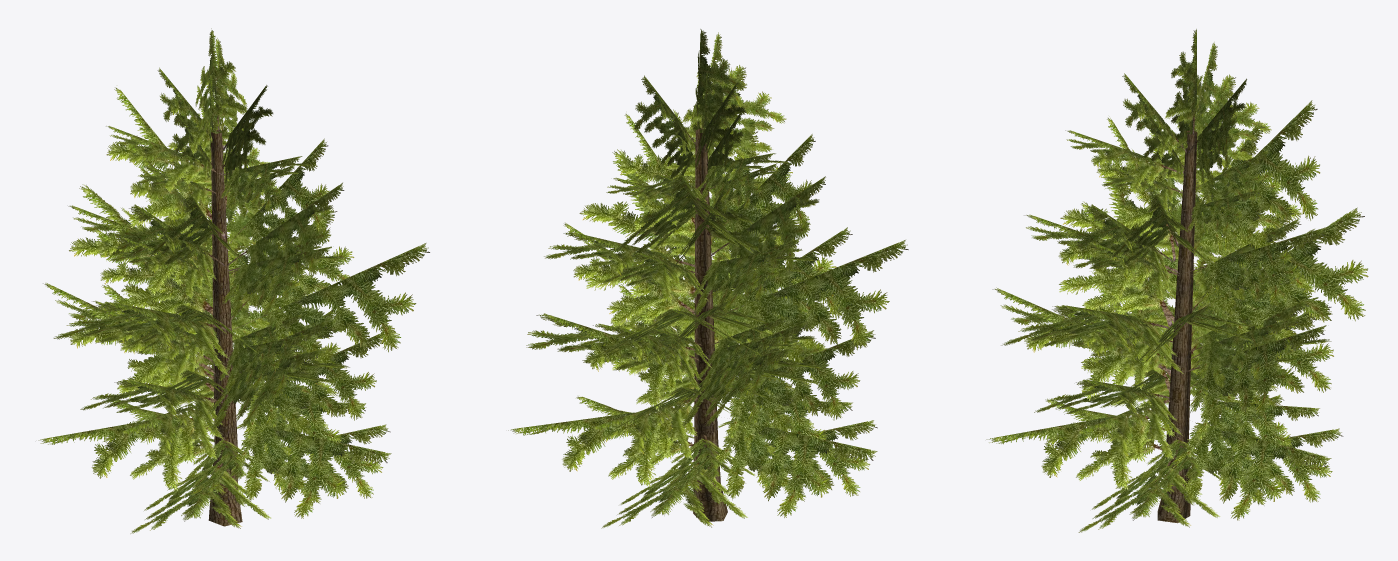
Rendered from tree_pine.glb.
The picture shows the model from 3 angles, left to right: view 1: azimuth 30°, elevation 25°; view 2: azimuth 150°, elevation 25°; view 3: azimuth 270°, elevation 25°; orthographic projection. The views are drawn at different scales.
Visible parts, largest first — view 1: pine; view 2: pine; view 3: pine.
Part boxes in pixels (left/top/right/bottom): pine: left=38, top=28, right=429, bottom=533; pine: left=508, top=29, right=908, bottom=528; pine: left=986, top=29, right=1368, bottom=532.
Bounding box in the file's own units: 1.14 × 1.48 × 1.13.
1 material, 1 textured.
